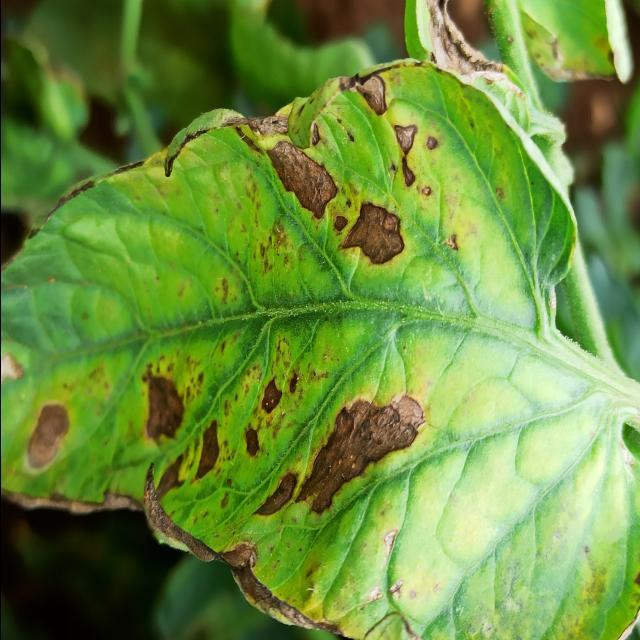Tomato mosaic virus leaf: (0, 54, 573, 640)
